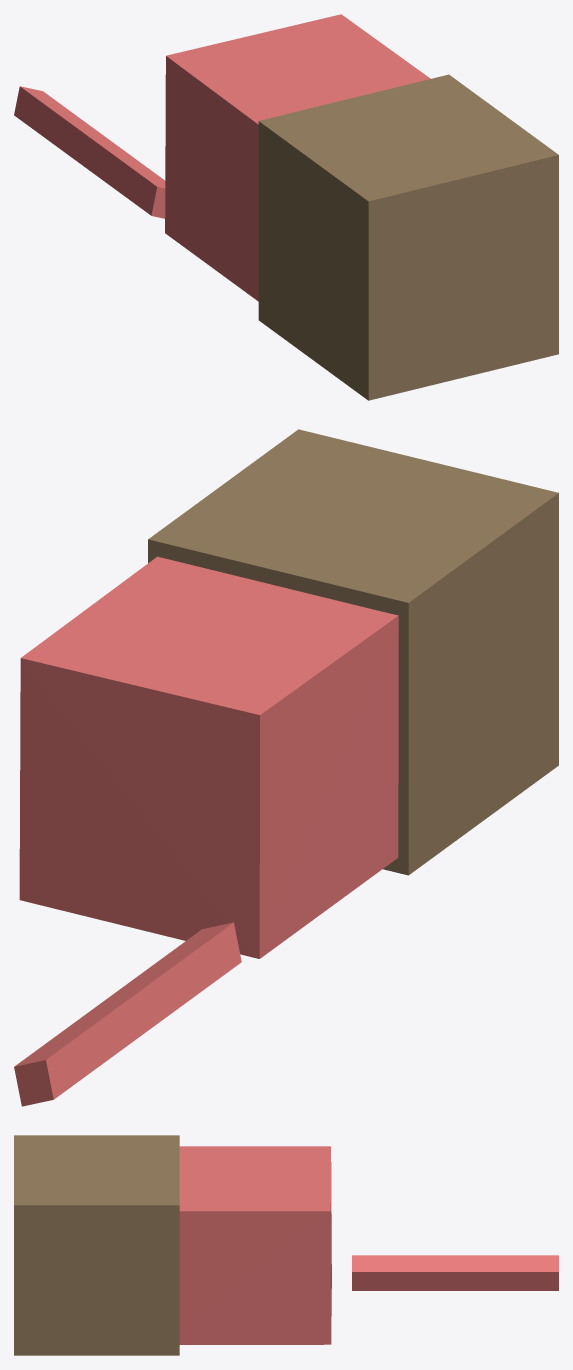
The model's file is Rug.fbx.
3 renders of one model, top to bottom at view 1: azimuth 30°, elevation 25°; view 2: azimuth 150°, elevation 25°; view 3: azimuth 270°, elevation 25°, orthographic. The views are drawn at different scales.
Visible parts, largest first — view 1: fam_leather_dark, fam_ruby; view 2: fam_ruby, fam_leather_dark; view 3: fam_ruby, fam_leather_dark.
Part boxes in pixels (x1=…): fam_leather_dark: x1=258, y1=74, x2=558, y2=400; fam_ruby: x1=14, y1=14, x2=430, y2=301; fam_ruby: x1=14, y1=556, x2=398, y2=1106; fam_leather_dark: x1=148, y1=429, x2=558, y2=875; fam_ruby: x1=179, y1=1146, x2=558, y2=1344; fam_leather_dark: x1=14, y1=1135, x2=179, y2=1355.
Bounding box in the file's own units: 3.5 × 3.5 × 11.52.
